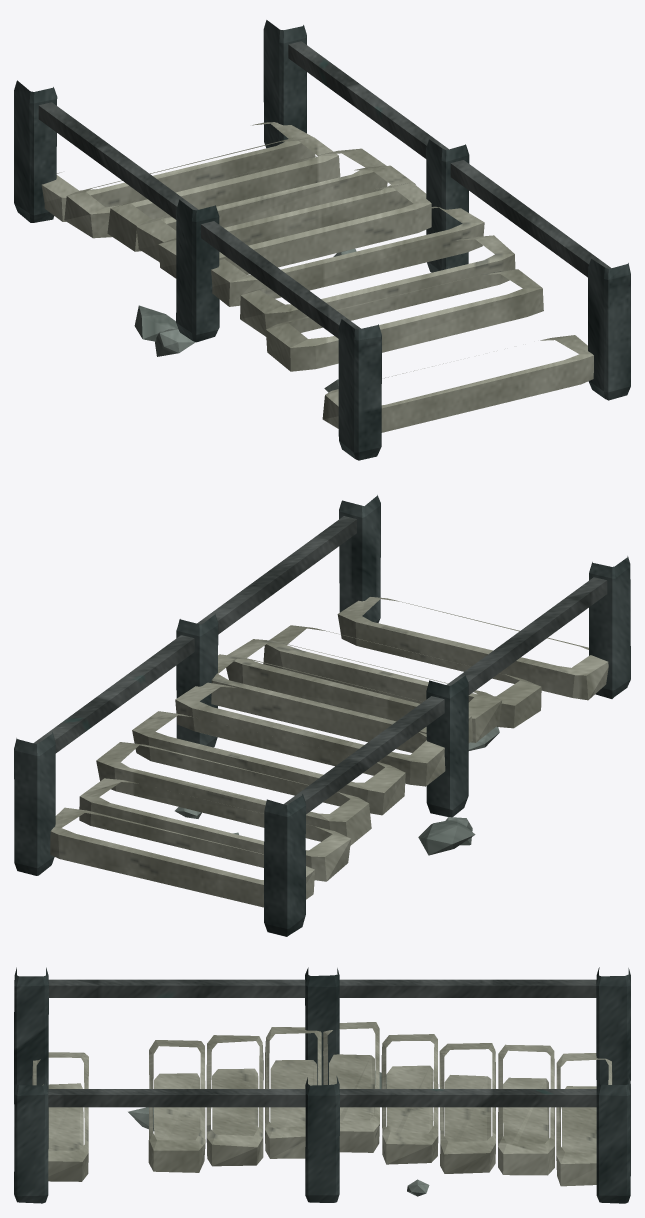
The model's file is 0376_ruined_bridge_01.glb.
3 views of the same model, one above another, from view 1: azimuth 30°, elevation 25°; view 2: azimuth 150°, elevation 25°; view 3: azimuth 270°, elevation 25° (orthographic). The views are drawn at different scales.
Parts seen in each view (by area): view 1: stone_light, stone_dark, iron, stone; view 2: stone_light, stone_dark, iron, stone; view 3: stone_light, stone_dark, iron, stone.
Boxes of the visible parts, box(x1,y1,x2,y2) form: stone_light: box(41, 122, 593, 432); stone_dark: box(14, 20, 630, 460); iron: box(38, 41, 611, 338); stone: box(134, 248, 356, 392); stone_light: box(50, 597, 608, 907); stone_dark: box(14, 495, 630, 936); iron: box(33, 516, 607, 814); stone: box(175, 726, 499, 855); stone_light: box(32, 1022, 612, 1186); stone_dark: box(14, 967, 630, 1203); iron: box(48, 979, 596, 1107); stone: box(128, 1071, 429, 1196).
Bounding box in the file's own units: 2.3 × 1.11 × 4.5.
Materials: 4 (4 with a texture image).
